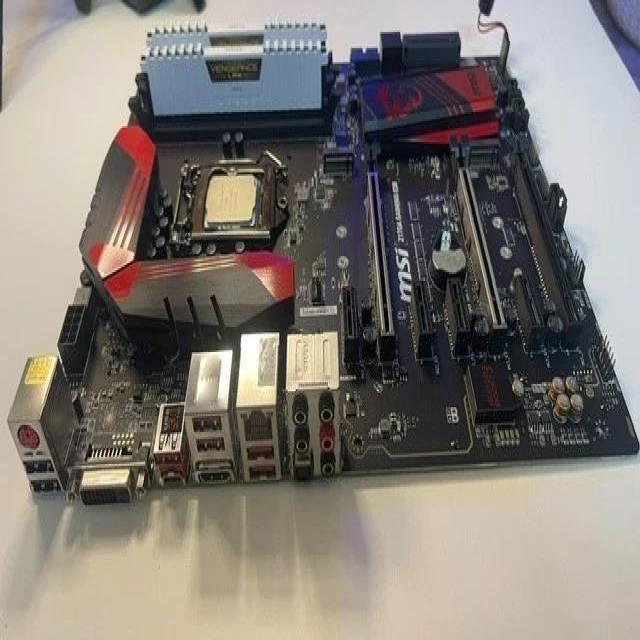CPU: (204, 173, 256, 227)
